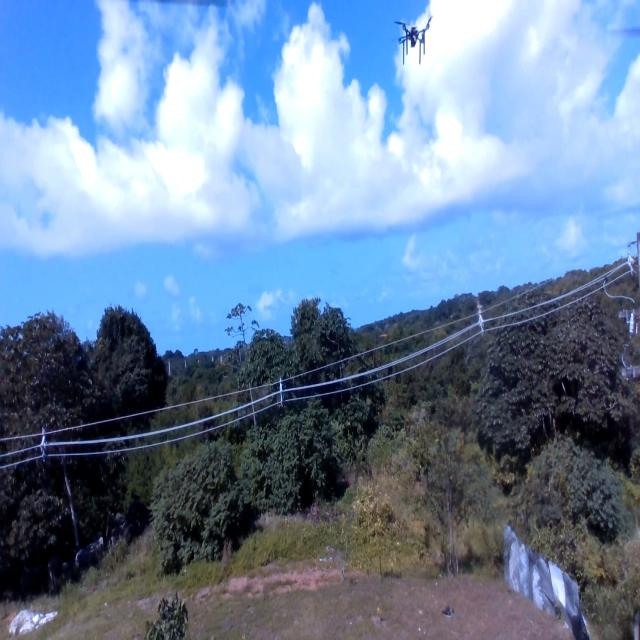-uav-: (391, 6, 436, 71)
